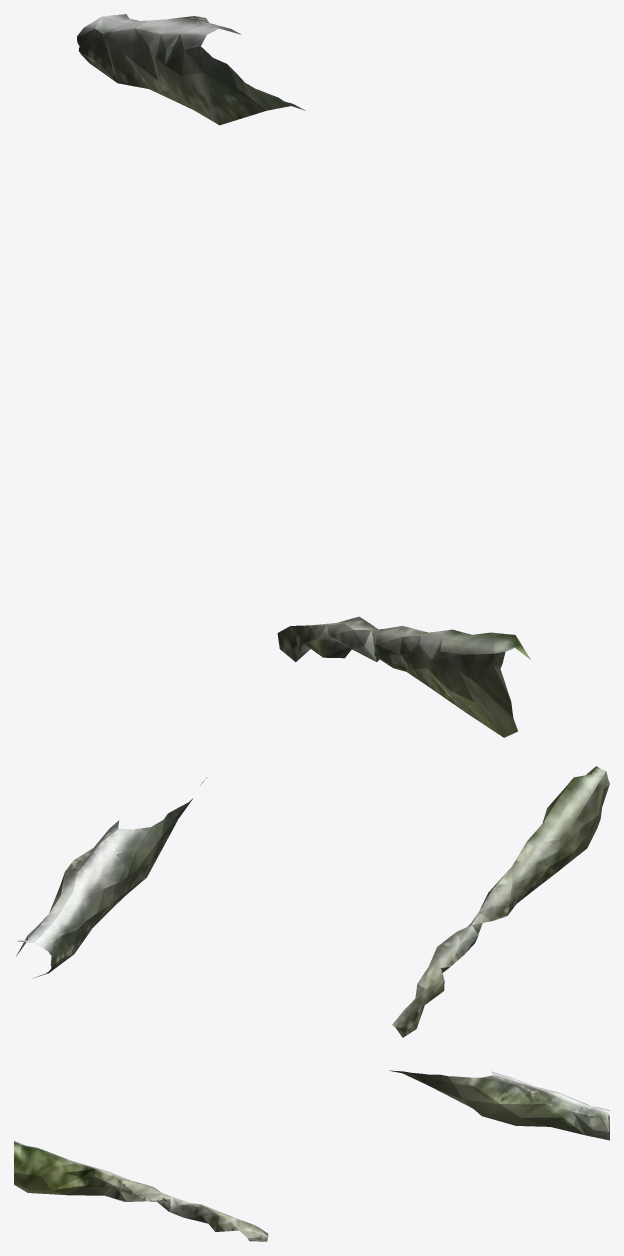
The picture shows the model from 3 angles, top to bottom: view 1: azimuth 30°, elevation 25°; view 2: azimuth 150°, elevation 25°; view 3: azimuth 270°, elevation 25°; orthographic projection. The views are drawn at different scales.
Size of the model in its own units: 0.6629 by 1.13 by 2.95.
Materials: 1 (1 with a texture image).
